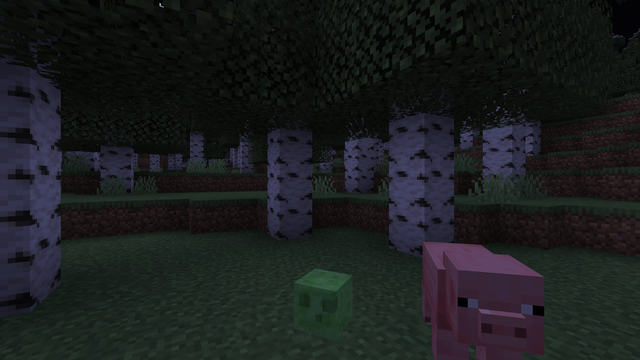cochons: (395, 238, 538, 358)
slimes: (293, 266, 355, 342)
